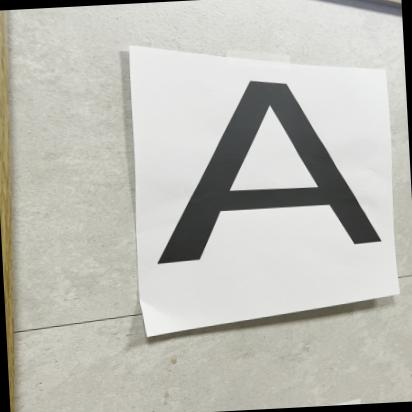seat: (138, 65, 390, 272)
